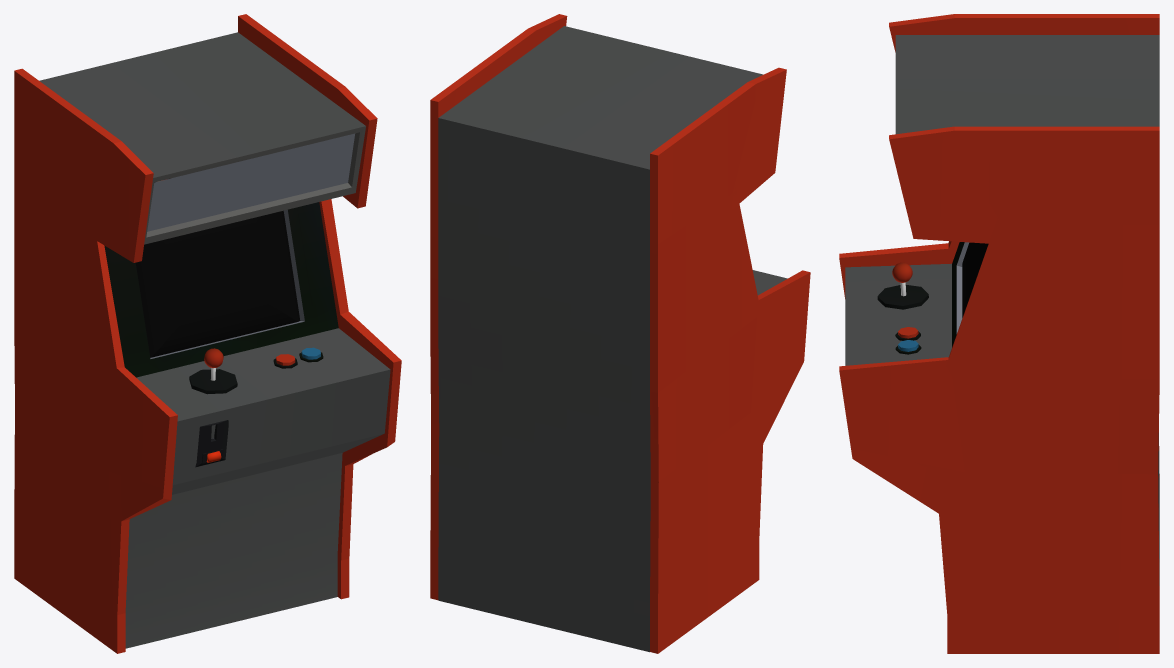
File: ArcadeMachine-LowPoly.glb
3 renders of one model, left to right at view 1: azimuth 30°, elevation 25°; view 2: azimuth 150°, elevation 25°; view 3: azimuth 270°, elevation 25°, orthographic. The views are drawn at different scales.
Parts seen in each view (by area): view 1: Arcade Machine, Screen cover, Joystick.003; view 2: Arcade Machine; view 3: Arcade Machine, Screen cover, Joystick.003.
Part boxes in pixels (x1,y1,x2,y2): Arcade Machine: (14,14,401,653); Screen cover: (135,210,300,357); Joystick.003: (189,369,237,394); Arcade Machine: (430,14,810,653); Arcade Machine: (839,14,1159,653); Screen cover: (962,242,988,317); Joystick.003: (877,285,928,309).
Size of the model in its own units: 2.15 by 4.51 by 2.5.
Materials: 3 (1 with a texture image).
